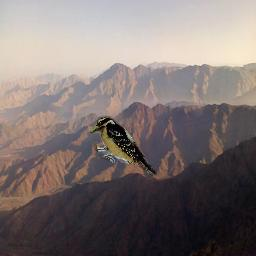Woodpecker: (90, 114, 157, 176)
